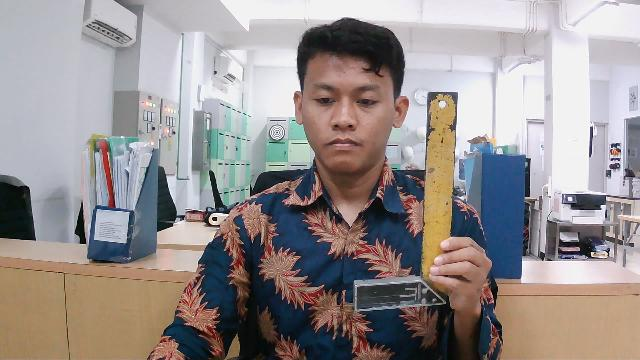penggaris_siku: (335, 84, 483, 318)
